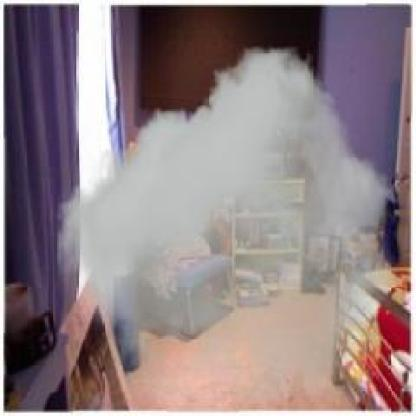Smoke: (57, 46, 395, 403)
